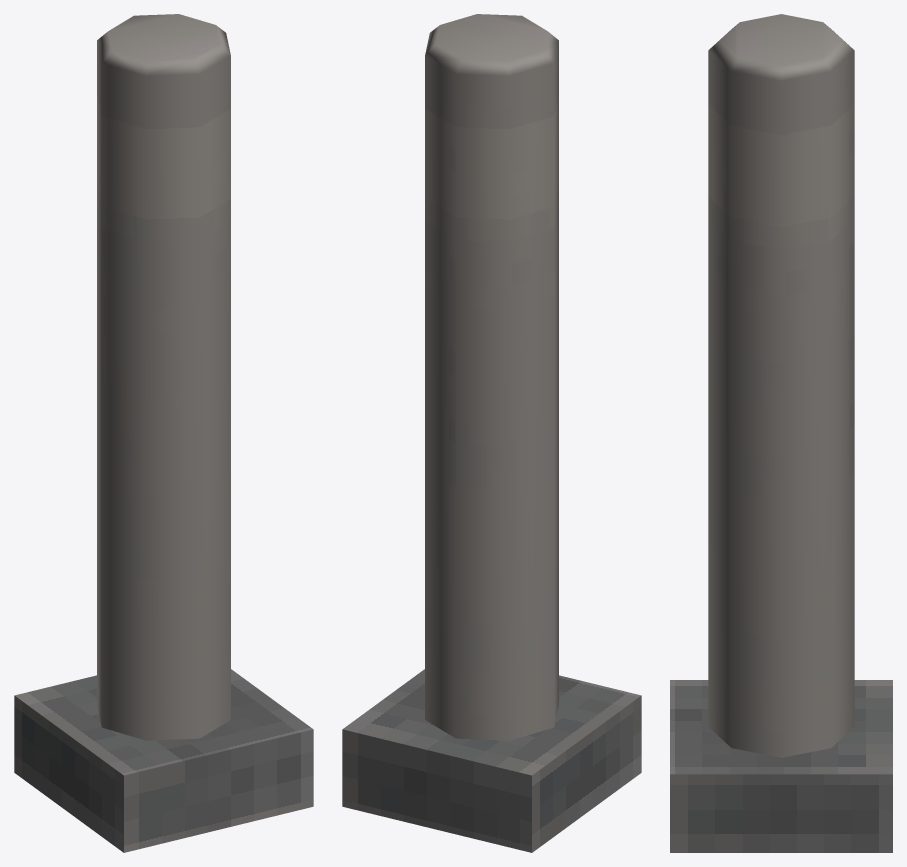
Rendered from objects_un_c01pole01.gltf.
The picture shows the model from 3 angles, left to right: view 1: azimuth 30°, elevation 25°; view 2: azimuth 150°, elevation 25°; view 3: azimuth 270°, elevation 25°; orthographic projection.
Visible parts, largest first — view 1: objects_un_c01pole01_model_mesh1_shape:objects_un_c01pole01_; view 2: objects_un_c01pole01_model_mesh1_shape:objects_un_c01pole01_; view 3: objects_un_c01pole01_model_mesh1_shape:objects_un_c01pole01_.
Part boxes in pixels (x1=…): objects_un_c01pole01_model_mesh1_shape:objects_un_c01pole01_: x1=14, y1=14, x2=313, y2=852; objects_un_c01pole01_model_mesh1_shape:objects_un_c01pole01_: x1=342, y1=14, x2=641, y2=852; objects_un_c01pole01_model_mesh1_shape:objects_un_c01pole01_: x1=670, y1=14, x2=892, y2=852.
Size of what is drawn, in the model's own units: 0.2441 by 0.9252 by 0.2441.
1 material, 1 textured.
